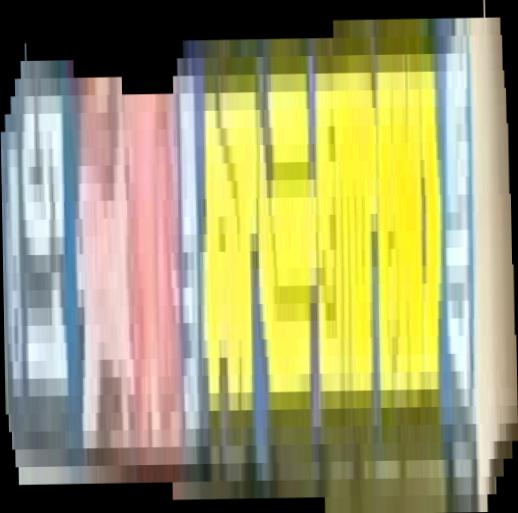flat: (1, 1, 518, 513)
